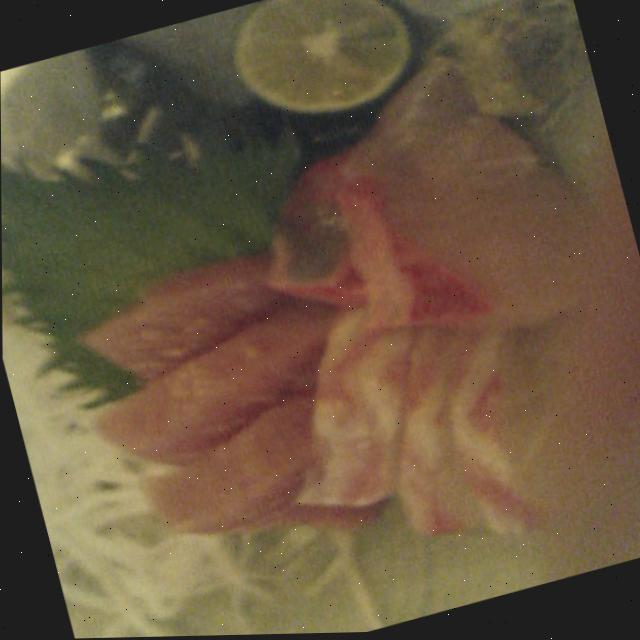刺身生食: (22, 41, 640, 640)
